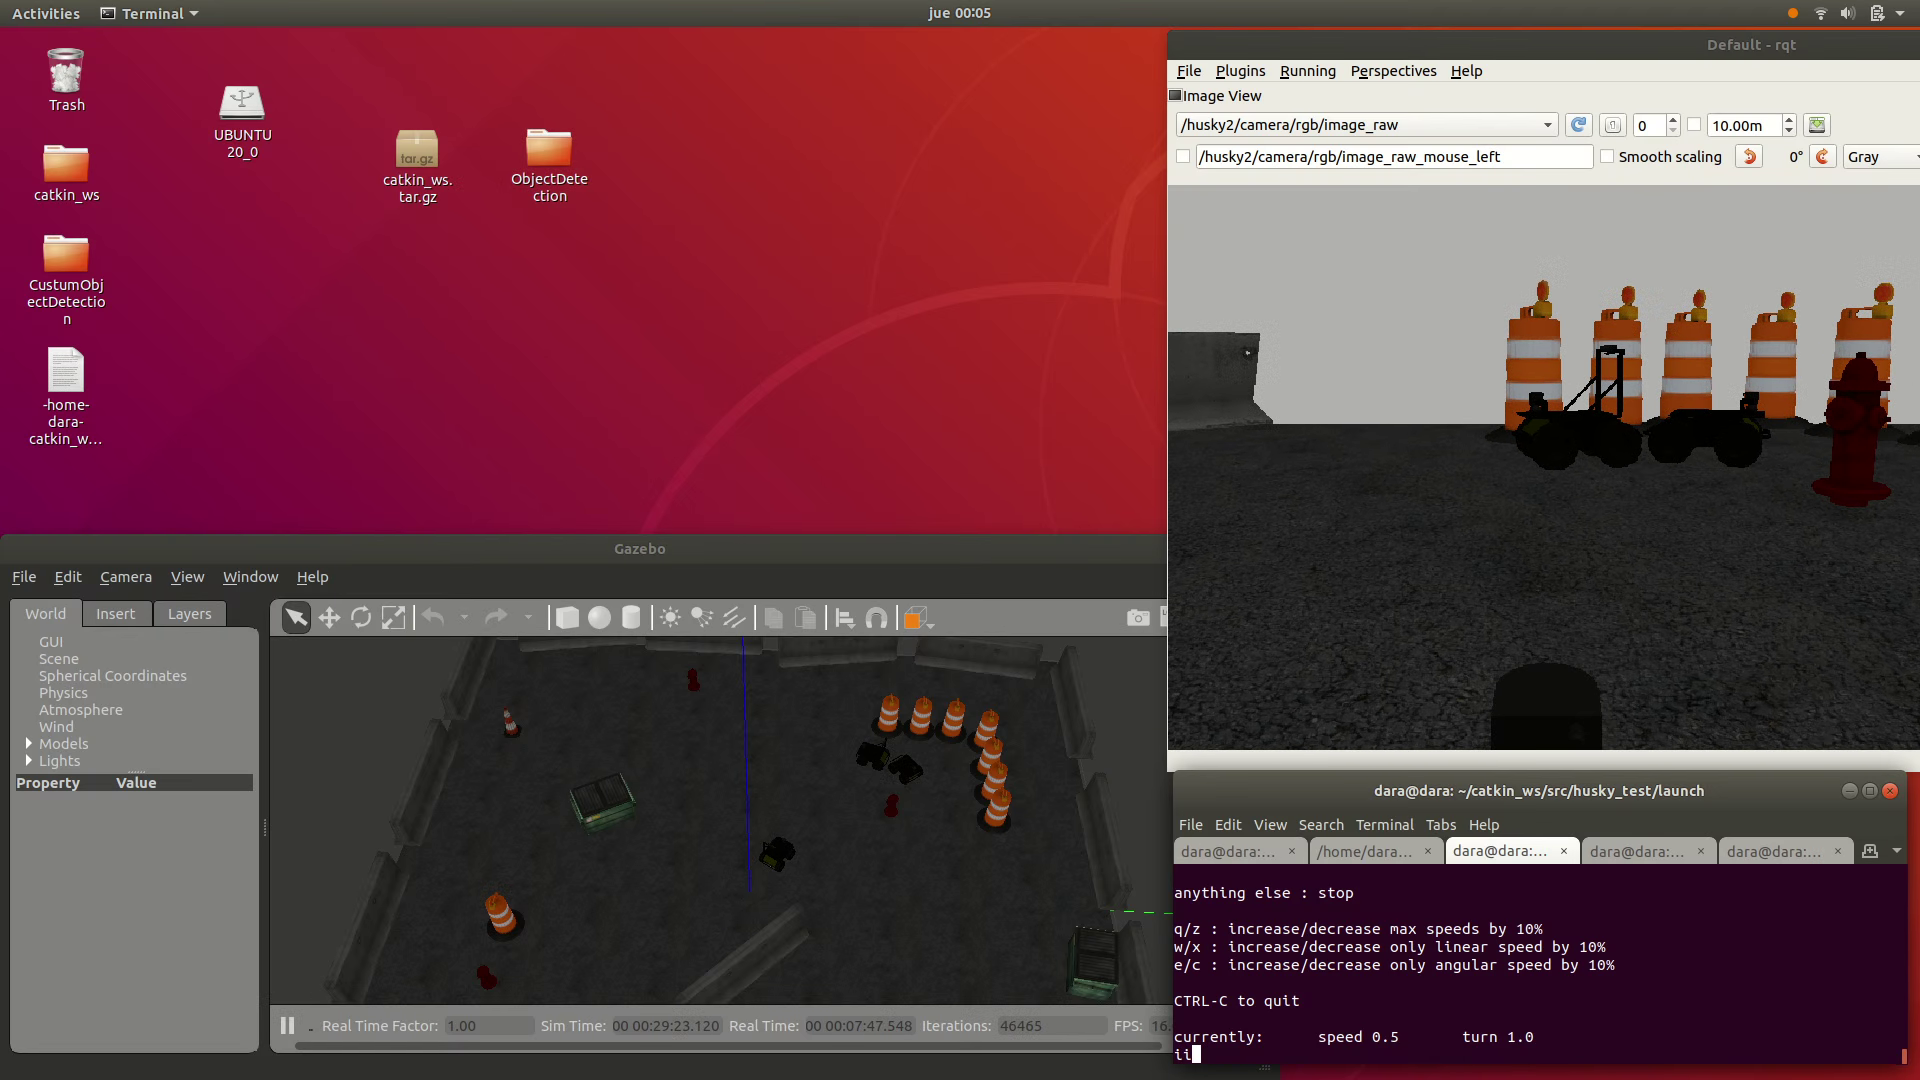husky: (1516, 392, 1642, 470), (1643, 409, 1772, 468), (758, 836, 795, 872), (888, 754, 924, 786), (855, 742, 892, 771)
